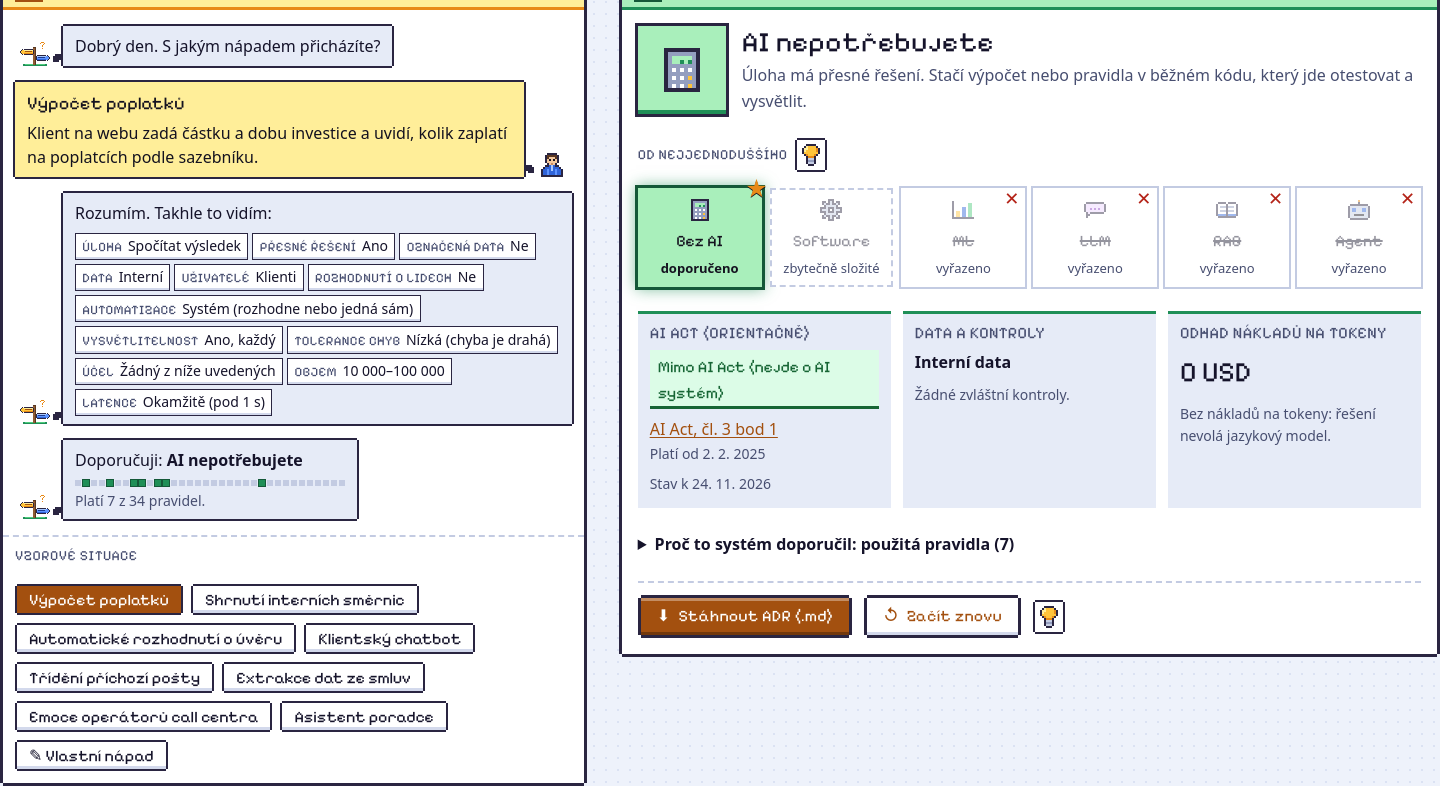
Test: IntakePage › a prohibited practice says not to build it and blocks the whole ladder
(page scrolled)
Click the button "Emoce operátorů call centra" at x=144, y=716, box [17,703,270,730]
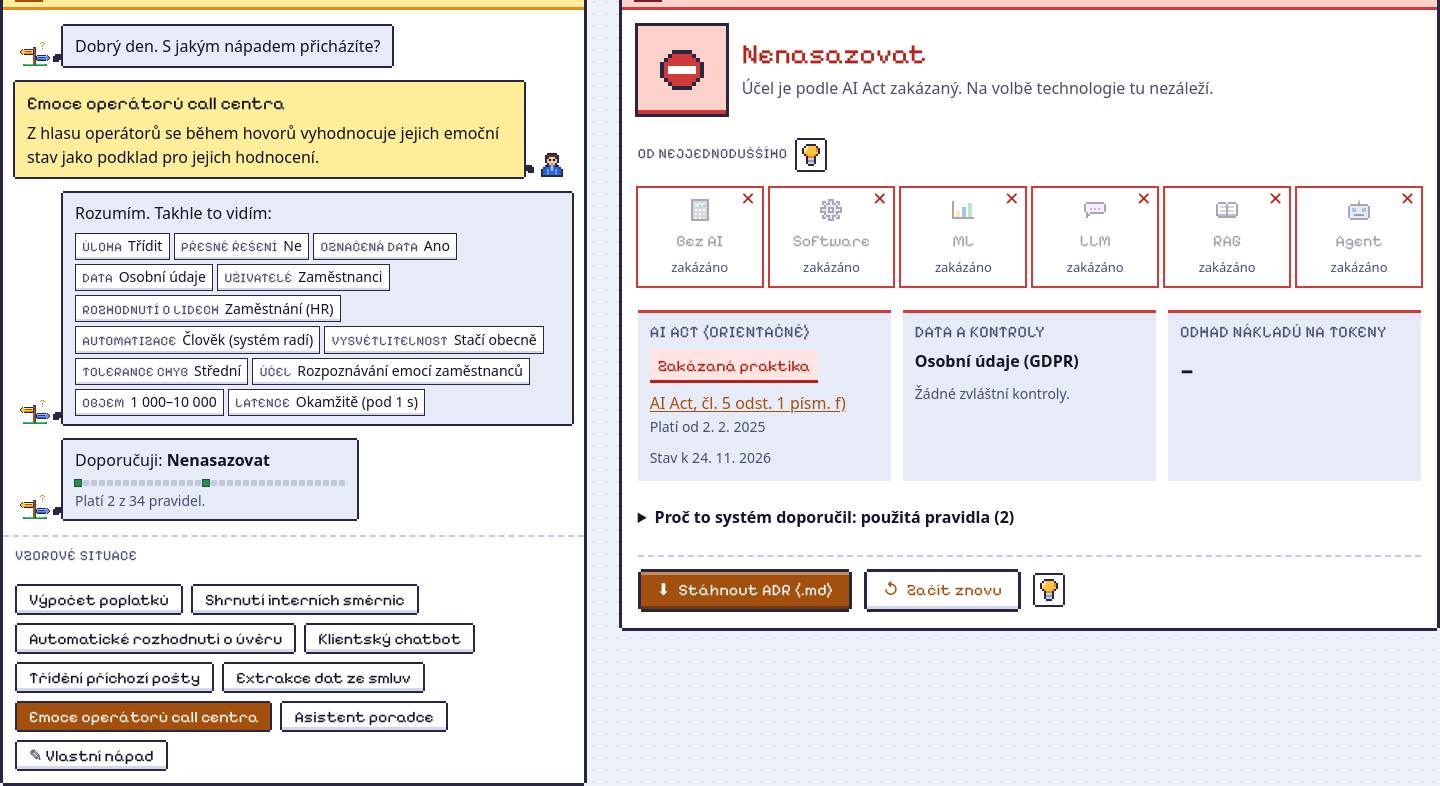
Expected: the text "zakázáno" is shown 6 times, [671,257,728,278]; [803,257,860,278]; [935,257,992,278]; [1067,257,1124,278]; [1199,257,1256,278]; [1331,257,1388,278]
Result: the text "Nenasazovat" is shown at [167,449,270,471]
Result: the text "Zakázaná praktika" is shown at [650,349,818,383]
